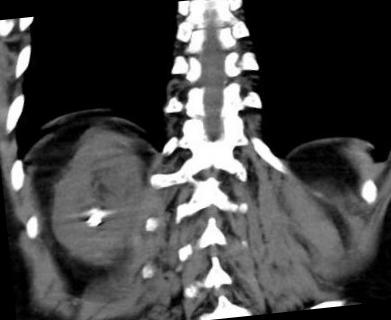Tas_Var: (86, 211, 105, 226), (83, 215, 94, 223), (87, 206, 96, 214)
